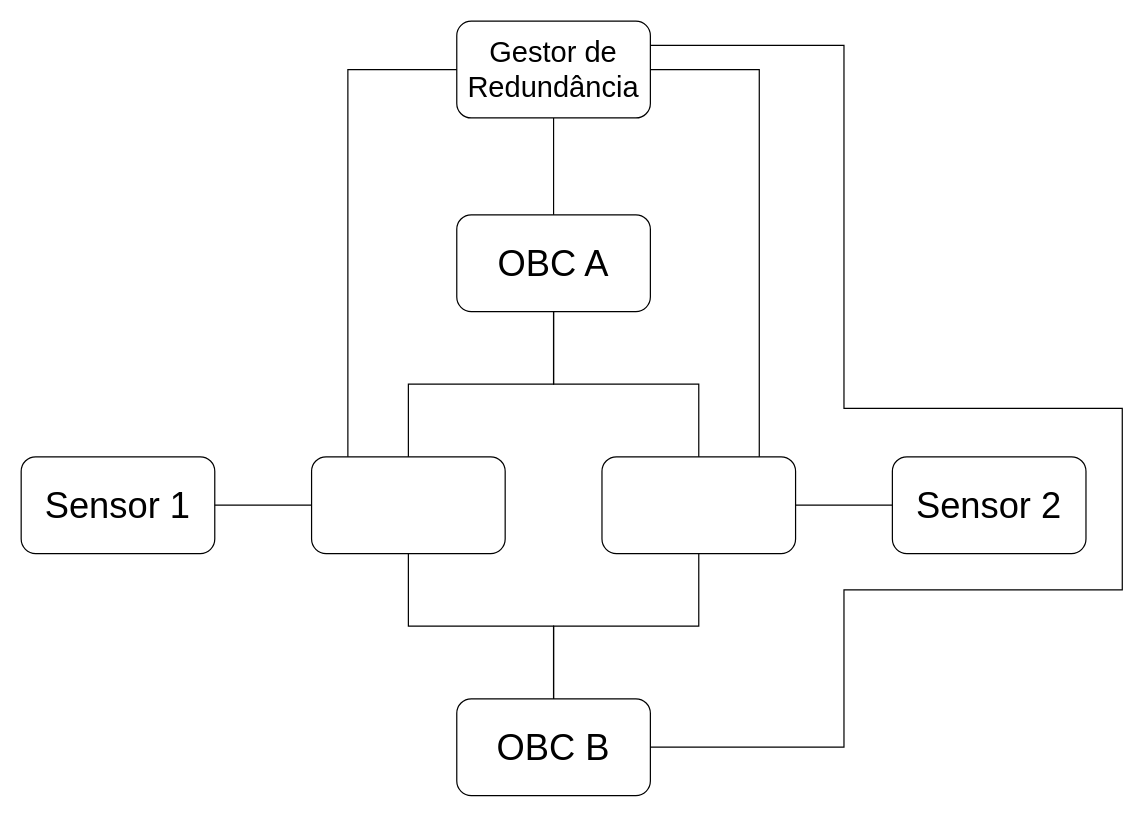
Some shapes in this 1145 by 817 pixel diagram are drawn without their labels. Each missing label, with the centre of its shape:
Selecionador 1: point (407, 505)
Selecionador 2: point (698, 505)
